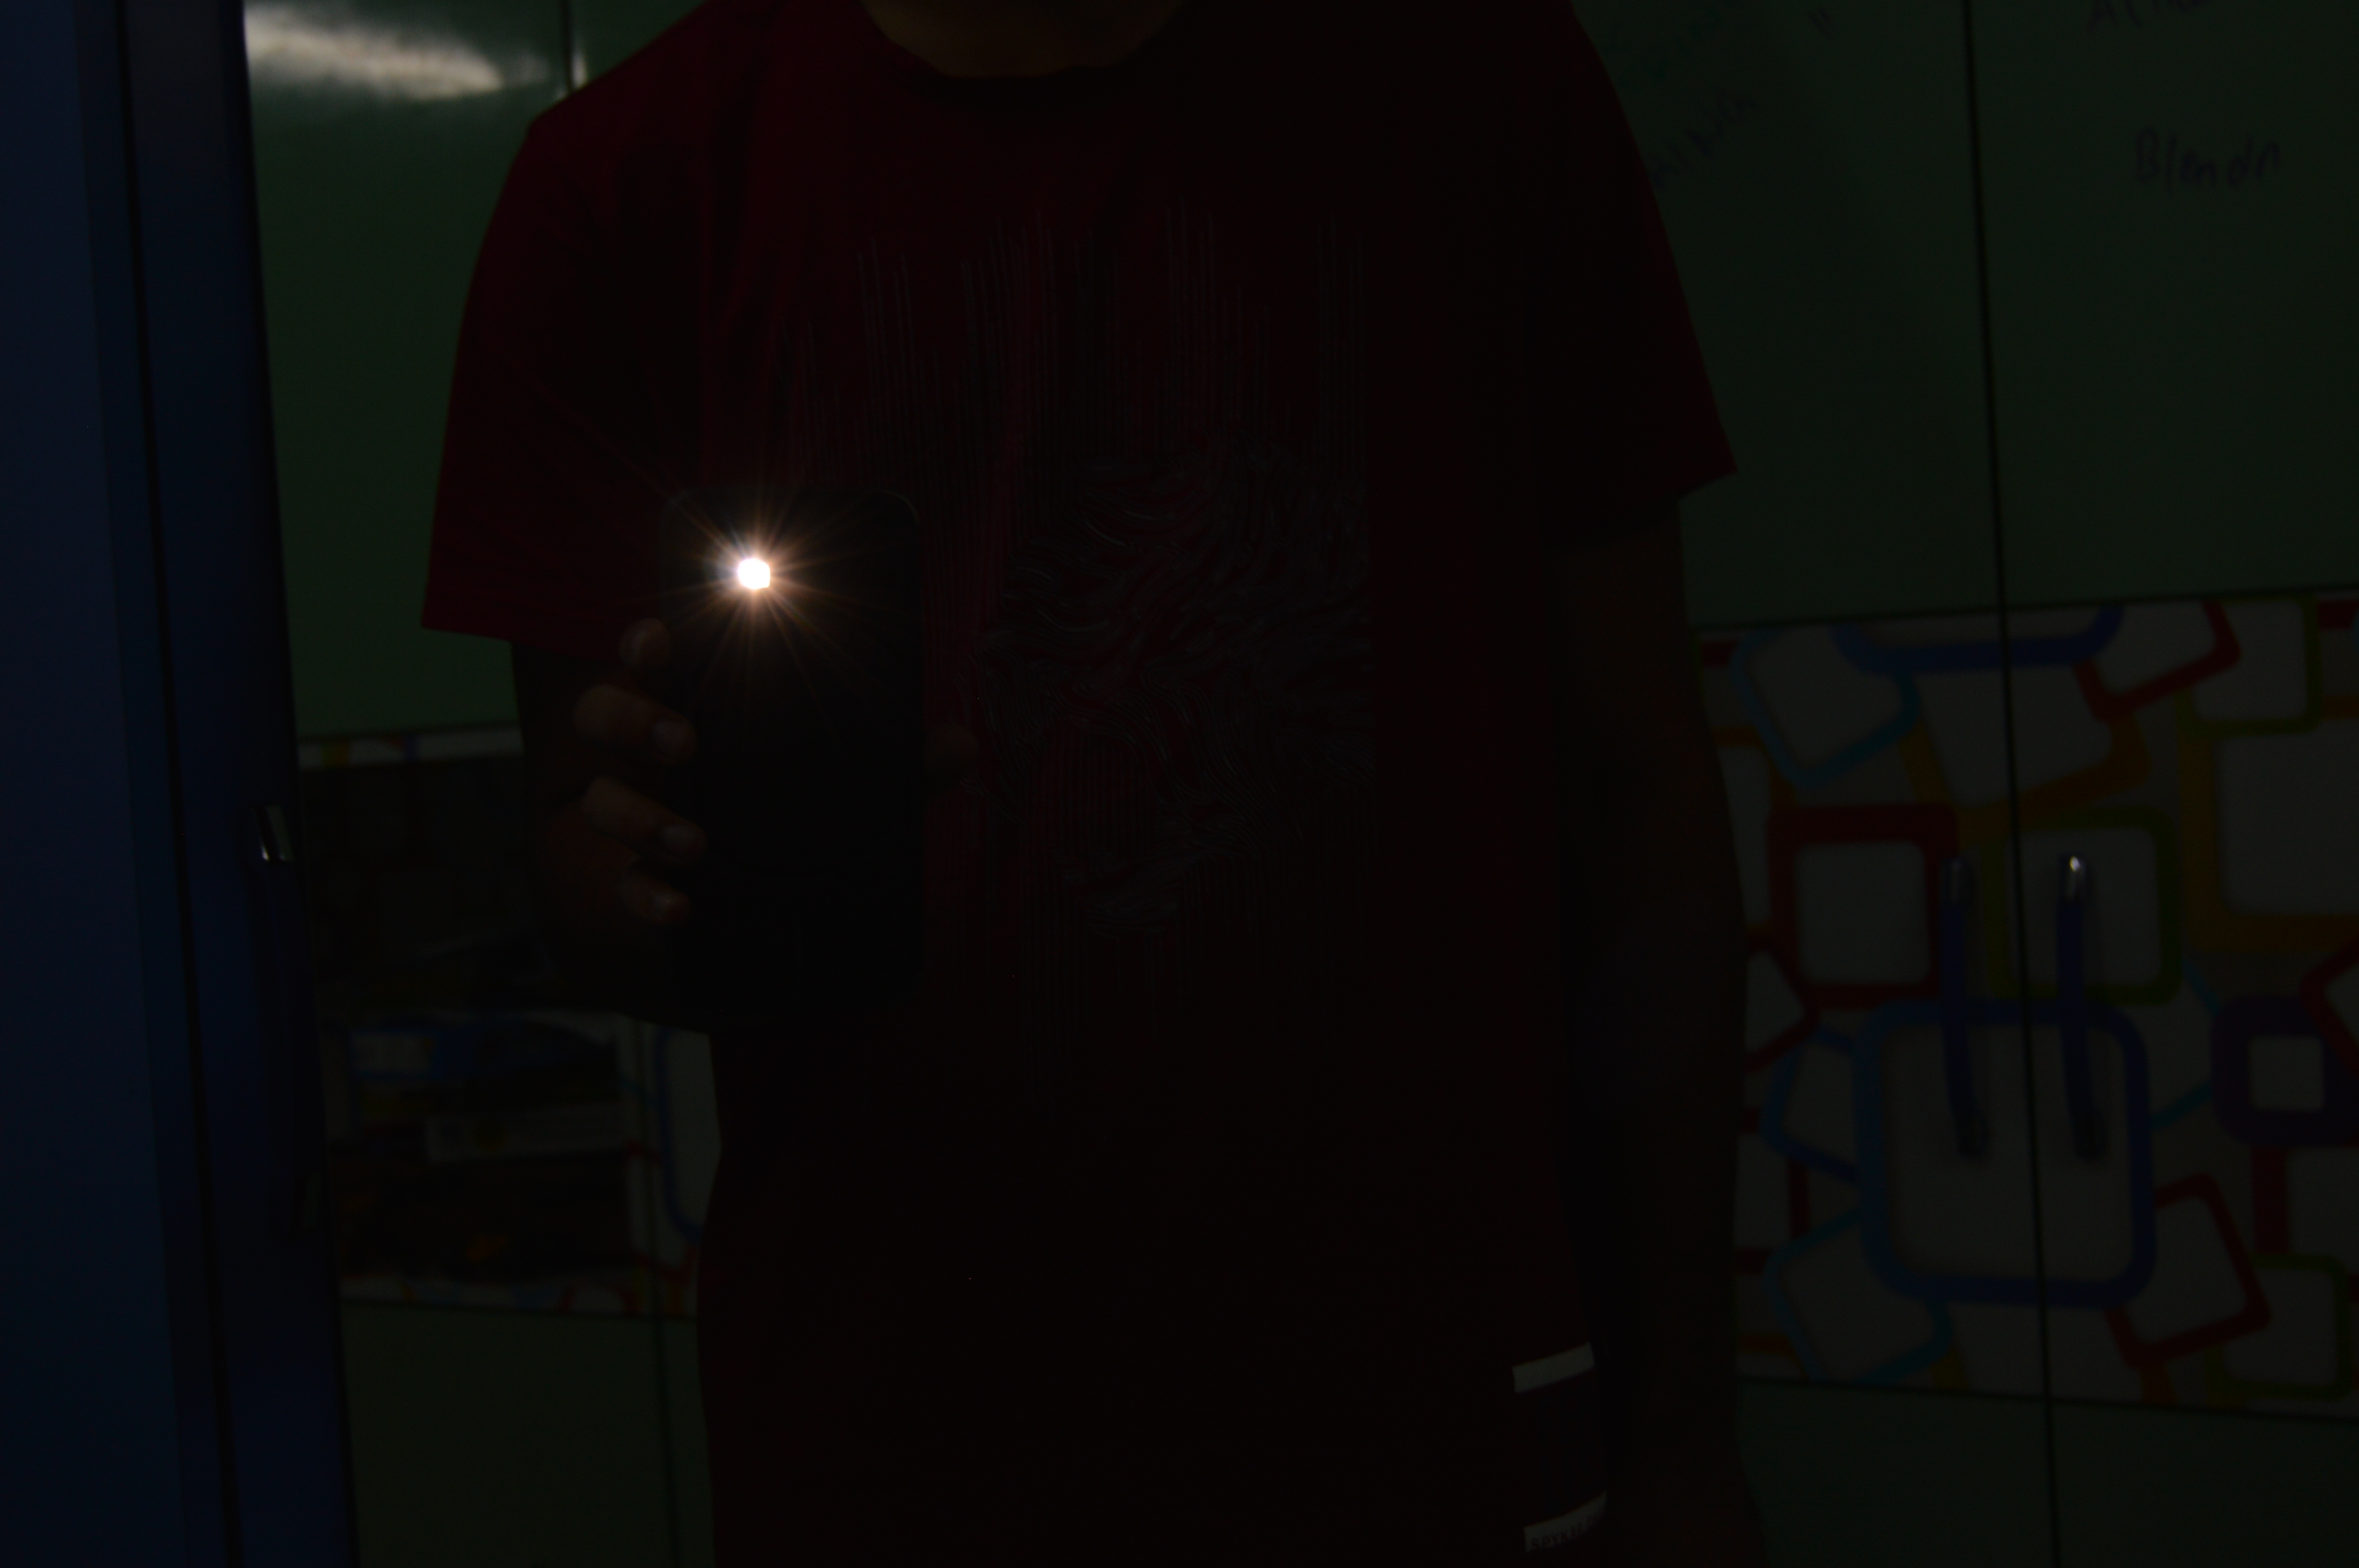Glare: (709, 535, 796, 616)
